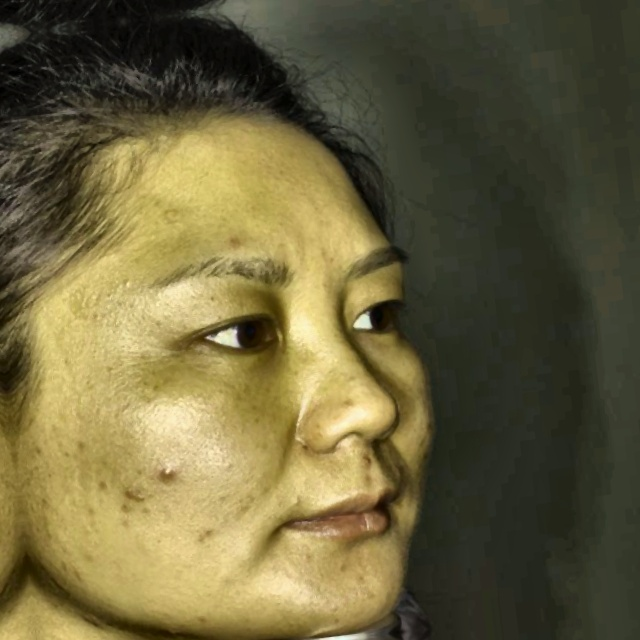comedone: (111, 471, 150, 512), (147, 450, 183, 491)
